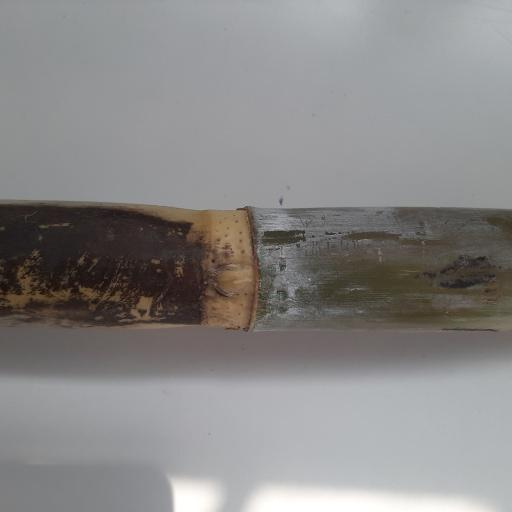Bud: (211, 266, 251, 296)
